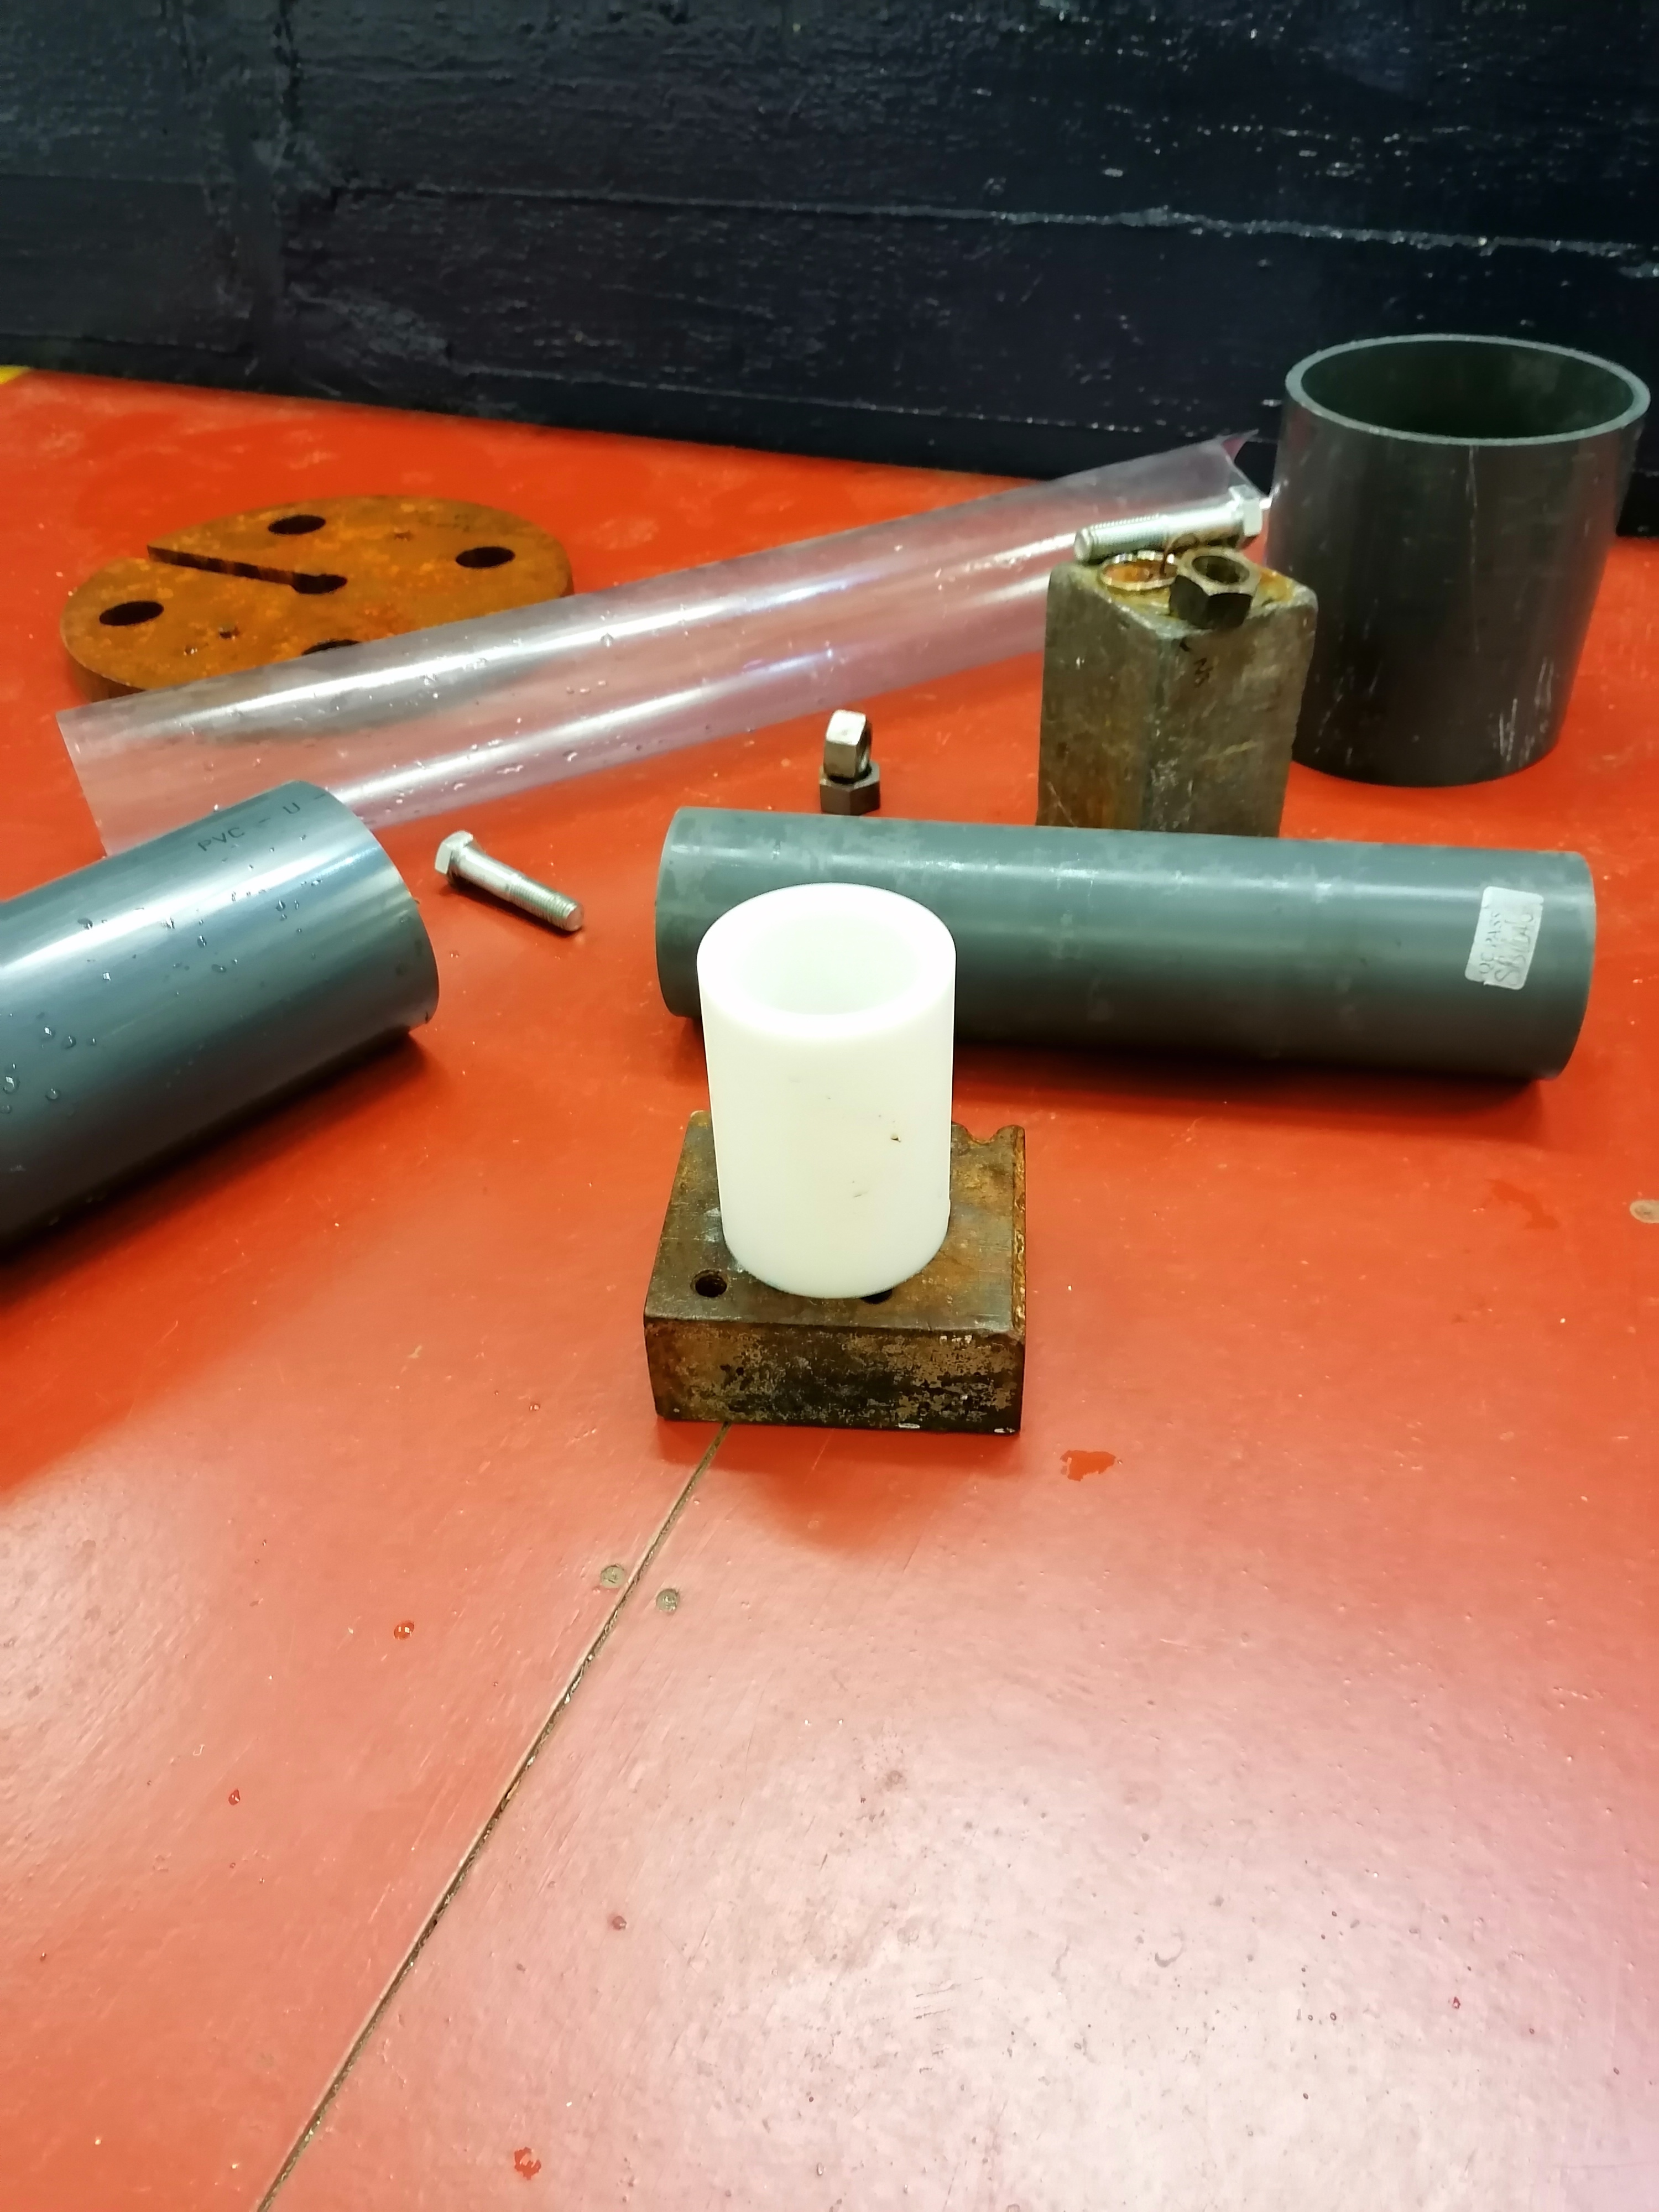bolt: (436, 829, 586, 934), (1073, 482, 1263, 559)
flange: (58, 495, 577, 693)
led_block: (652, 1115, 1030, 1439), (1037, 556, 1317, 836)
nut: (1169, 543, 1263, 631), (824, 709, 875, 780), (816, 765, 884, 815)
pipe: (52, 423, 1263, 859), (652, 808, 1598, 1080), (0, 780, 441, 1252), (1281, 322, 1649, 786), (695, 876, 953, 1301)
